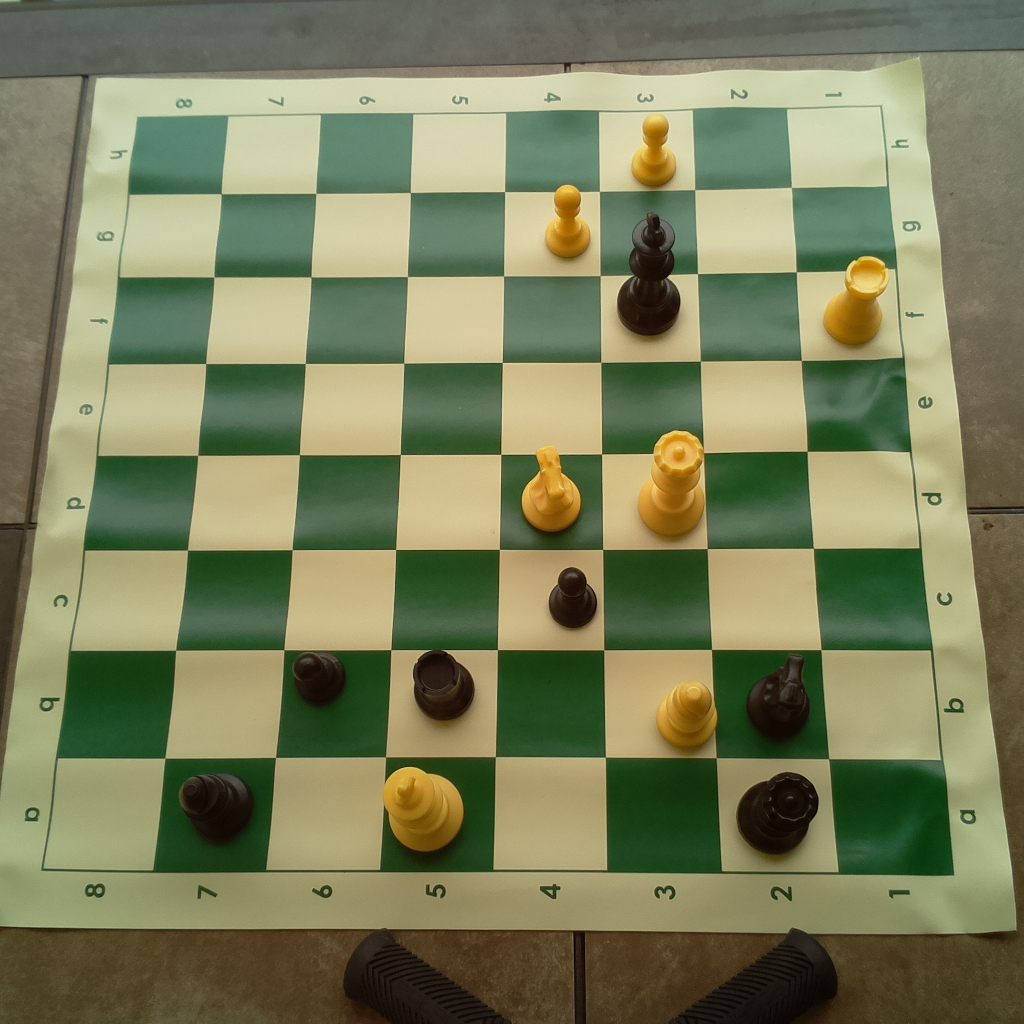black_bishop: (175, 770, 257, 841)
black_king: (612, 212, 685, 340)
black_knight: (741, 651, 811, 740)
black_pawn: (546, 561, 599, 631), (290, 648, 349, 708)
black_queen: (733, 770, 823, 858)
black_rook: (410, 645, 479, 725)
file_a: (45, 757, 958, 877)
file_b: (54, 652, 942, 758)
file_c: (67, 547, 932, 653)
file_d: (85, 452, 920, 548)
file_e: (94, 357, 912, 453)
file_f: (111, 270, 903, 360)
file_g: (120, 187, 894, 280)
file_h: (127, 106, 889, 199)
outline: (44, 104, 955, 878)
rank_1: (788, 106, 955, 877)
rank_2: (690, 105, 840, 873)
rank_3: (598, 108, 723, 873)
rank_4: (494, 110, 607, 871)
rank_5: (381, 113, 507, 870)
rank_6: (264, 112, 415, 871)
rank_7: (151, 114, 320, 869)
rank_8: (44, 114, 229, 871)
white_bishop: (653, 673, 720, 753)
white_king: (377, 761, 466, 856)
white_knight: (514, 443, 584, 536)
white_pawn: (623, 109, 685, 186), (541, 183, 596, 262)
white_queen: (634, 425, 711, 539)
white_rook: (819, 253, 892, 351)
